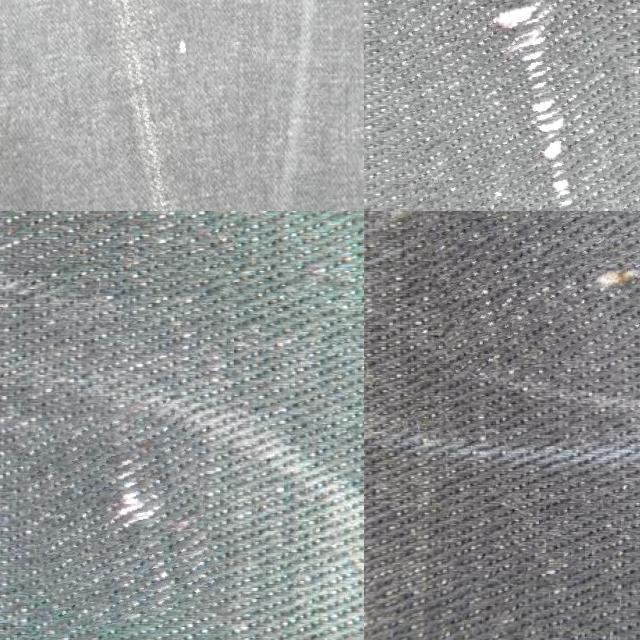stains: (380, 0, 640, 211), (7, 0, 255, 211), (25, 410, 214, 630), (427, 211, 640, 366)
